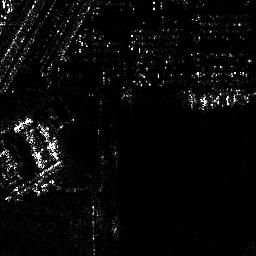ship: (183, 89, 254, 109)
